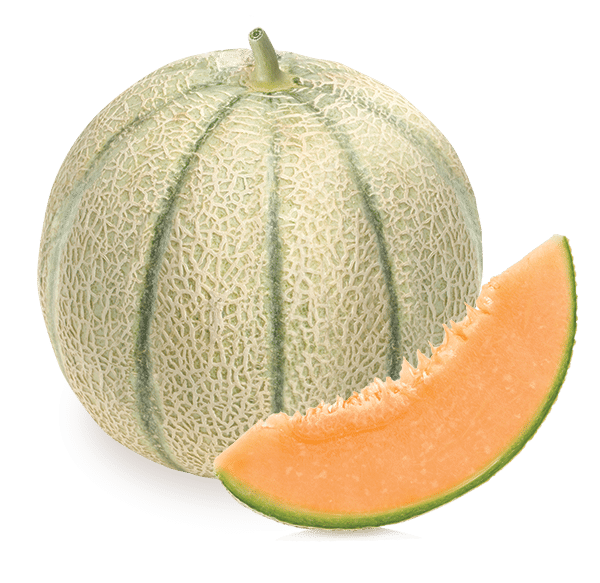Melon: (193, 235, 580, 561)
